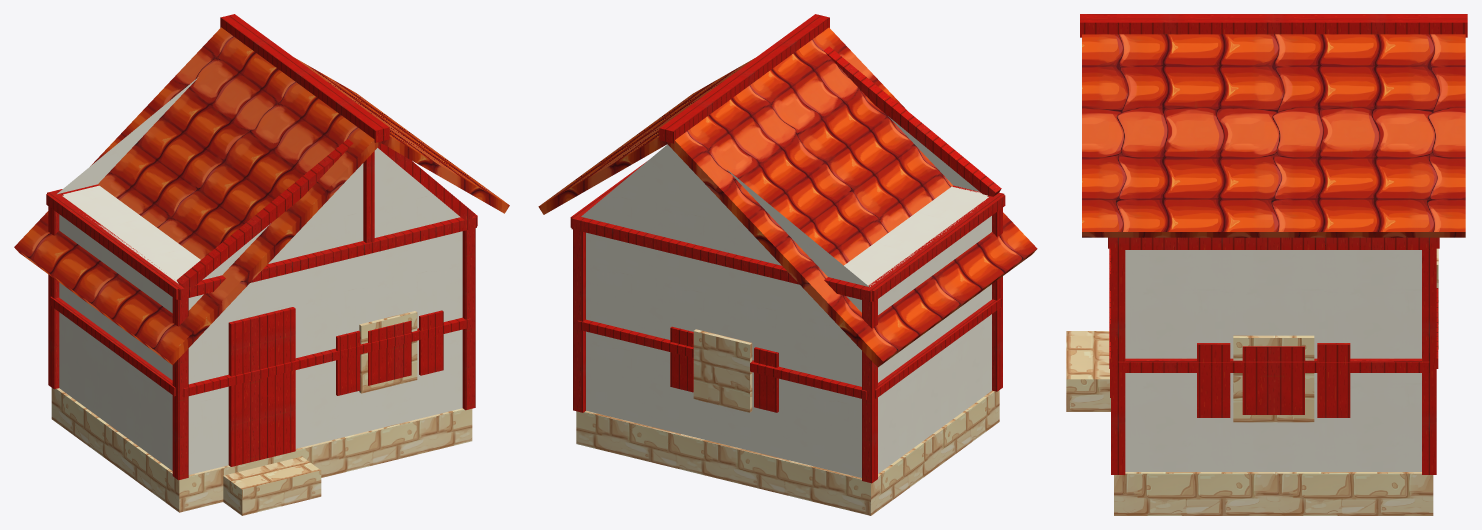
The model's file is maison_4x3.glb.
3 renders of one model, left to right at view 1: azimuth 30°, elevation 25°; view 2: azimuth 150°, elevation 25°; view 3: azimuth 270°, elevation 25°, orthographic. The views are drawn at different scales.
Parts seen in each view (by area): view 1: Cube.001, Cube.017, Cube, Cube.020, pignon_avant, Cube.021, Cube.019, Cube.006, Cube.014, Cube.018, Cube.007, Cube.010 (+11 smaller); view 2: Cube.001, Cube.017, Cube, pignon_arriere, Cube.030, Cube.008, Cube.019, Cube.014, Cube.018, Cube.009, Cube.010, Cube.004 (+6 smaller); view 3: Cube.018, Cube.001, Cube, Cube.019, Cube.012, Cube.013, Cube.027, Cube.021, Cube.003, Cube.005, Cube.026, Cube.028 (+1 smaller).
Part boxes in pixels (<box>): Cube.001: <box>59,185,462,474</box>; Cube.017: <box>14,27,381,364</box>; Cube: <box>51,388,472,512</box>; Cube.020: <box>228,307,295,466</box>; pignon_avant: <box>203,148,460,279</box>; Cube.021: <box>223,456,321,515</box>; Cube.019: <box>220,14,389,142</box>; Cube.006: <box>174,216,476,299</box>; Cube.014: <box>176,139,353,291</box>; Cube.018: <box>295,58,509,213</box>; Cube.007: <box>183,317,471,397</box>; Cube.010: <box>46,193,178,299</box>; Cube.001: <box>586,186,991,477</box>; Cube.017: <box>666,27,1037,367</box>; Cube: <box>576,390,999,515</box>; pignon_arriere: <box>581,144,868,286</box>; Cube.030: <box>693,329,752,412</box>; Cube.008: <box>571,214,872,301</box>; Cube.019: <box>659,14,829,143</box>; Cube.014: <box>823,46,1001,196</box>; Cube.018: <box>538,58,754,214</box>; Cube.009: <box>577,319,866,399</box>; Cube.010: <box>864,194,1005,301</box>; Cube.004: <box>862,285,877,483</box>; Cube.018: <box>1082,34,1465,237</box>; Cube.001: <box>1125,250,1421,471</box>; Cube: <box>1114,472,1433,515</box>; Cube.019: <box>1080,14,1467,37</box>; Cube.012: <box>1111,237,1436,249</box>; Cube.013: <box>1118,358,1429,372</box>; Cube.027: <box>1242,346,1304,414</box>; Cube.021: <box>1066,331,1110,411</box>; Cube.003: <box>1111,250,1125,474</box>; Cube.005: <box>1422,250,1436,474</box>; Cube.026: <box>1233,335,1314,422</box>; Cube.028: <box>1197,343,1230,417</box>.
Size of the model in its own units: 4.77 by 4.62 by 3.87.
4 materials, 4 textured.
